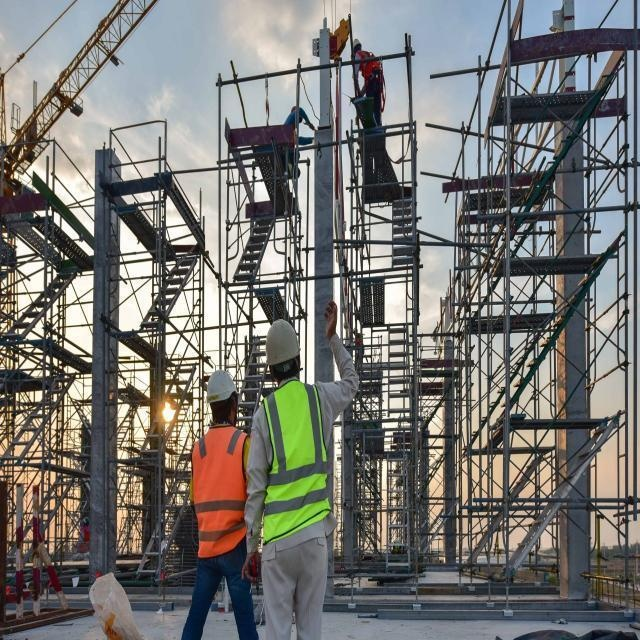Arnes_seguridad: (359, 51, 384, 86)
